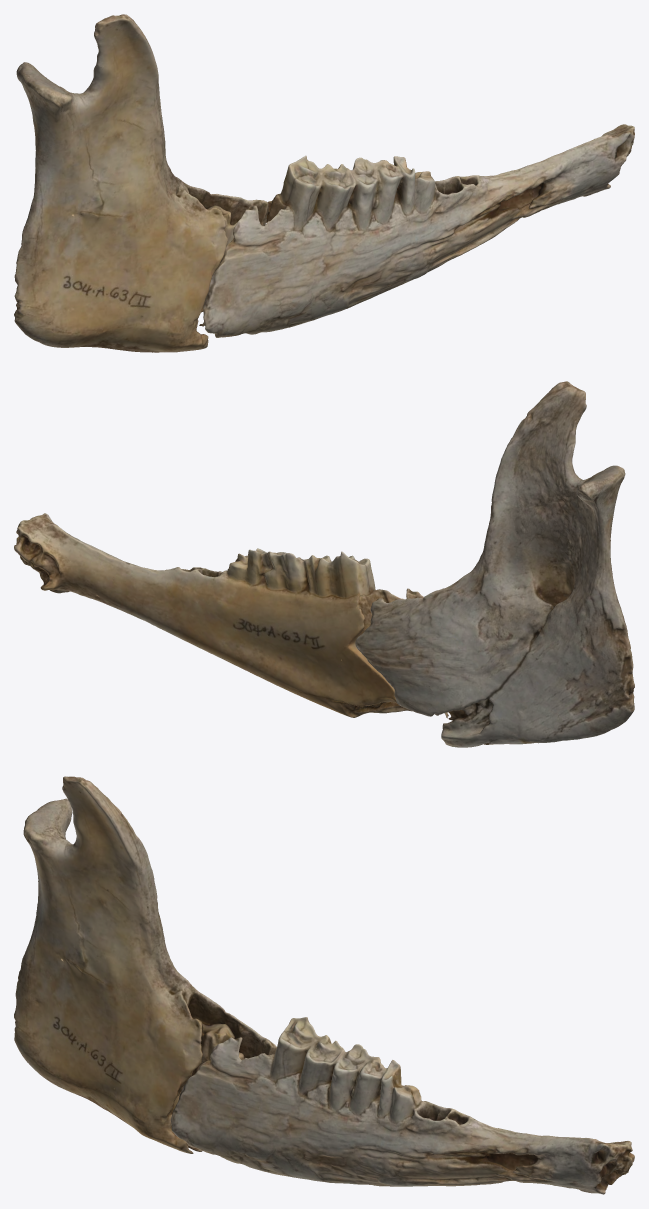
The picture shows the model from 3 angles, top to bottom: view 1: azimuth 30°, elevation 25°; view 2: azimuth 150°, elevation 25°; view 3: azimuth 330°, elevation 25°; orthographic projection.
Visible parts, largest first — view 1: orientacao; view 2: orientacao; view 3: orientacao.
Part boxes in pixels (bbox=[...]): orientacao: bbox=[14, 14, 634, 352]; orientacao: bbox=[14, 381, 634, 747]; orientacao: bbox=[14, 776, 634, 1194].
Bounding box in the file's own units: 5326 × 3055 × 660.
Materials: 1 (1 with a texture image).
